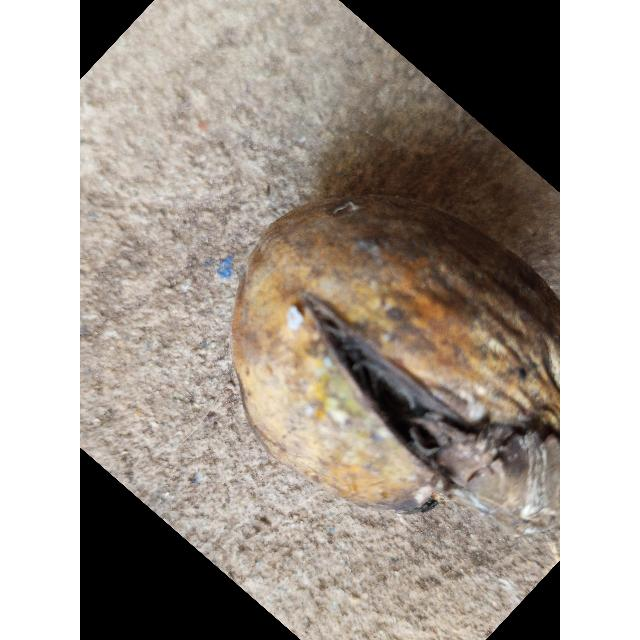damaged: (230, 164, 560, 520)
